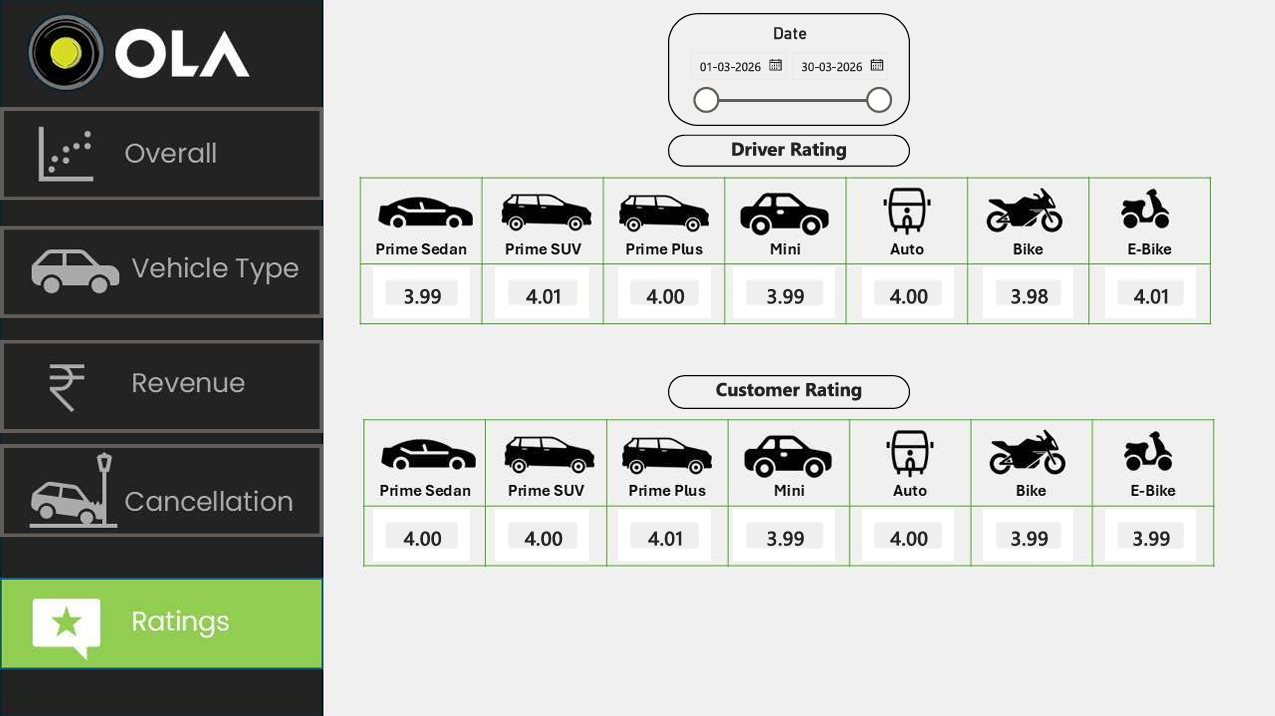

The dashboard page shown, as its layout file describes it:
{"tool":"powerbi","page":{"name":"Ratings","canvas":[1280,720],"ordinal":4},"visuals":[{"type":"actionButton","box":[0,225.6,323.3,91.7],"z":0},{"type":"actionButton","box":[0,340.2,323.3,91.7],"z":1000},{"type":"actionButton","box":[0,445.2,323.3,91.7],"z":2000},{"type":"actionButton","box":[0,107.4,323.3,91.7],"z":3000},{"type":"slicer","title":"Date","fields":{"Values":["Thane Ride Data.Date"]},"box":[669.6,12.3,242.9,112.5],"z":4000},{"type":"cardVisual","fields":{"Data":["Avg(Thane Ride Data.Driver_Ratings)"]},"box":[374,266.6,96.5,50.7],"z":5000},{"type":"cardVisual","fields":{"Data":["Avg(Thane Ride Data.Driver_Ratings)"]},"box":[497.1,266.6,94.1,50.7],"z":6000},{"type":"cardVisual","fields":{"Data":["Avg(Thane Ride Data.Driver_Ratings)"]},"box":[620.1,266.6,92.9,50.7],"z":7000},{"type":"cardVisual","fields":{"Data":["Avg(Thane Ride Data.Driver_Ratings)"]},"box":[735.9,266.6,102.5,50.7],"z":8000},{"type":"cardVisual","fields":{"Data":["Avg(Thane Ride Data.Driver_Ratings)"]},"box":[865,266.6,91.7,50.7],"z":9000},{"type":"cardVisual","fields":{"Data":["Avg(Thane Ride Data.Driver_Ratings)"]},"box":[986.9,266.6,90.5,50.7],"z":10000},{"type":"cardVisual","fields":{"Data":["Avg(Thane Ride Data.Driver_Ratings)"]},"box":[1108.7,266.6,91.7,50.7],"z":11000},{"type":"textbox","box":[669.6,134.5,242.9,31.6],"z":12000},{"type":"textbox","box":[669.6,374.6,242.9,34.3],"z":13000},{"type":"cardVisual","fields":{"Data":["Avg(Thane Ride Data.Customer_Ratings)"]},"box":[374,510.3,96.5,50.7],"z":14000},{"type":"cardVisual","fields":{"Data":["Avg(Thane Ride Data.Customer_Ratings)"]},"box":[497.1,510.3,94.1,50.7],"z":15000},{"type":"cardVisual","fields":{"Data":["Avg(Thane Ride Data.Customer_Ratings)"]},"box":[620.1,510.3,92.9,50.7],"z":16000},{"type":"cardVisual","fields":{"Data":["Avg(Thane Ride Data.Customer_Ratings)"]},"box":[735.9,510.3,102.5,50.7],"z":17000},{"type":"cardVisual","fields":{"Data":["Avg(Thane Ride Data.Customer_Ratings)"]},"box":[865,510.3,91.7,50.7],"z":18000},{"type":"cardVisual","fields":{"Data":["Avg(Thane Ride Data.Customer_Ratings)"]},"box":[986.9,510.3,90.5,50.7],"z":19000},{"type":"cardVisual","fields":{"Data":["Avg(Thane Ride Data.Customer_Ratings)"]},"box":[1108.7,510.3,91.7,50.7],"z":20000}]}

Visuals, with their boxes in screenshot pixels (x1, y1, x2, y2), scaled from the page's 1280x720 canvas onto the 1275x716 screenshot:
actionButton: select_region(0, 224, 322, 316)
actionButton: select_region(0, 338, 322, 430)
actionButton: select_region(0, 443, 322, 534)
actionButton: select_region(0, 107, 322, 198)
"Date" slicer: select_region(667, 12, 909, 124)
cardVisual - Avg(Thane Ride Data.Driver_Ratings): select_region(373, 265, 469, 316)
cardVisual - Avg(Thane Ride Data.Driver_Ratings): select_region(495, 265, 589, 316)
cardVisual - Avg(Thane Ride Data.Driver_Ratings): select_region(618, 265, 710, 316)
cardVisual - Avg(Thane Ride Data.Driver_Ratings): select_region(733, 265, 835, 316)
cardVisual - Avg(Thane Ride Data.Driver_Ratings): select_region(862, 265, 953, 316)
cardVisual - Avg(Thane Ride Data.Driver_Ratings): select_region(983, 265, 1073, 316)
cardVisual - Avg(Thane Ride Data.Driver_Ratings): select_region(1104, 265, 1196, 316)
textbox: select_region(667, 134, 909, 165)
textbox: select_region(667, 373, 909, 407)
cardVisual - Avg(Thane Ride Data.Customer_Ratings): select_region(373, 507, 469, 558)
cardVisual - Avg(Thane Ride Data.Customer_Ratings): select_region(495, 507, 589, 558)
cardVisual - Avg(Thane Ride Data.Customer_Ratings): select_region(618, 507, 710, 558)
cardVisual - Avg(Thane Ride Data.Customer_Ratings): select_region(733, 507, 835, 558)
cardVisual - Avg(Thane Ride Data.Customer_Ratings): select_region(862, 507, 953, 558)
cardVisual - Avg(Thane Ride Data.Customer_Ratings): select_region(983, 507, 1073, 558)
cardVisual - Avg(Thane Ride Data.Customer_Ratings): select_region(1104, 507, 1196, 558)
